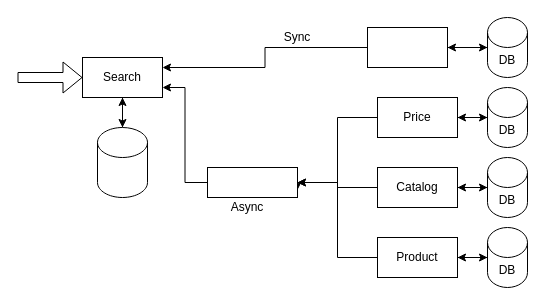
This 545x305 diagram has some shape labels left out. Each missing label, with the box of its shape:
Currency exchange: (366, 26, 448, 68)
Event stream: (206, 166, 298, 198)
Replica DB: (96, 126, 148, 198)
